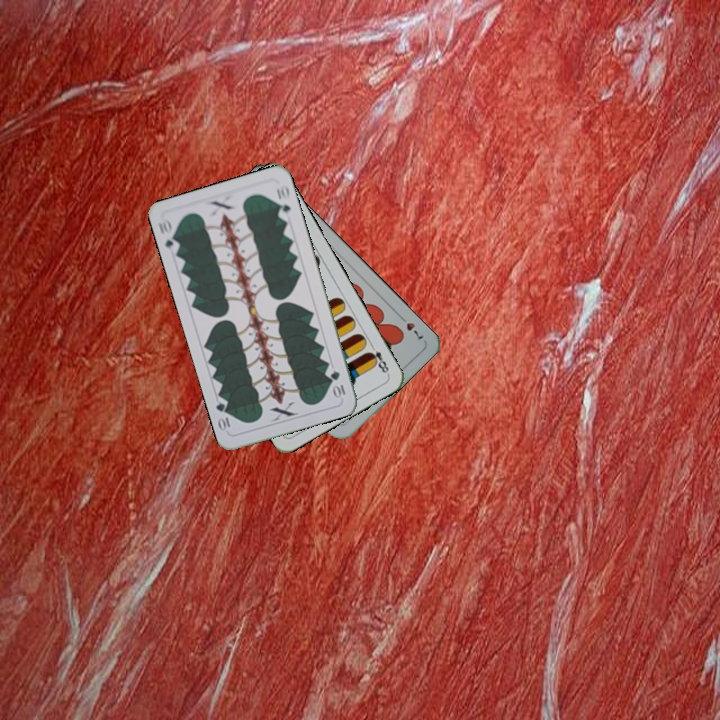E8: (364, 340, 391, 377)
G10: (154, 216, 182, 255), (326, 367, 348, 401)
H7: (394, 311, 426, 342)
